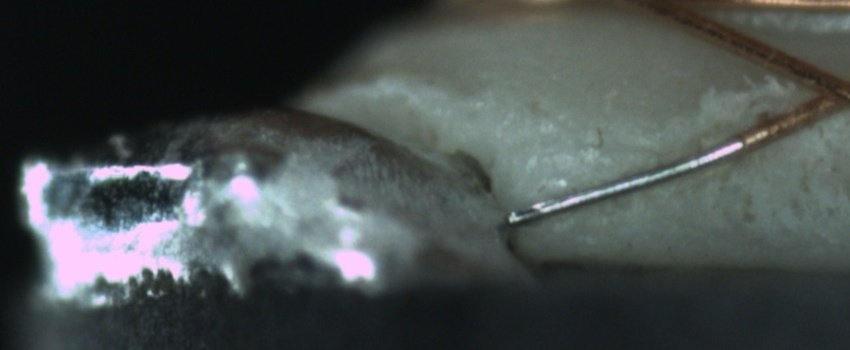CL: (794, 59, 850, 121)
DL: (523, 105, 696, 204)
TS: (514, 132, 735, 224)
